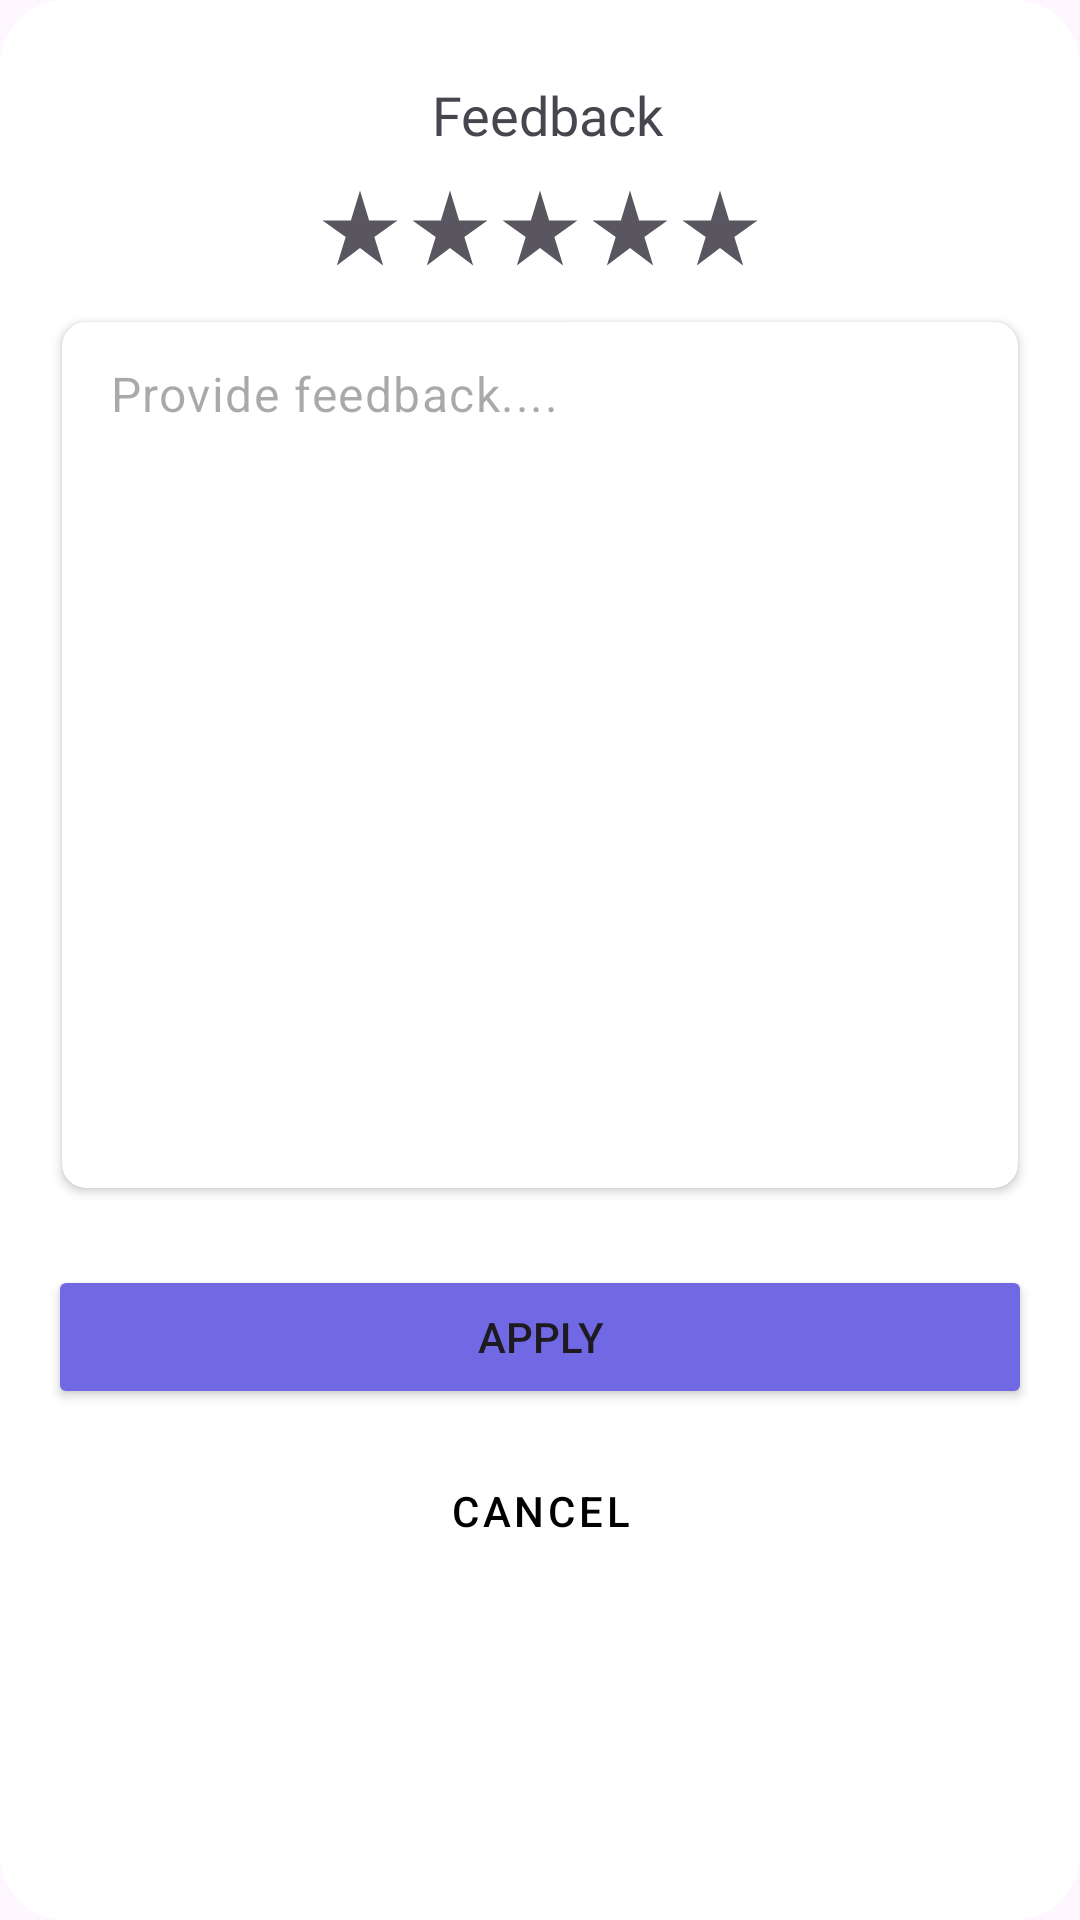

Where to tap for icons on this 1080 × 1920 app screen, as [x,y]:
star rate: [360,228], [450,228], [540,228], [630,228], [720,228]
